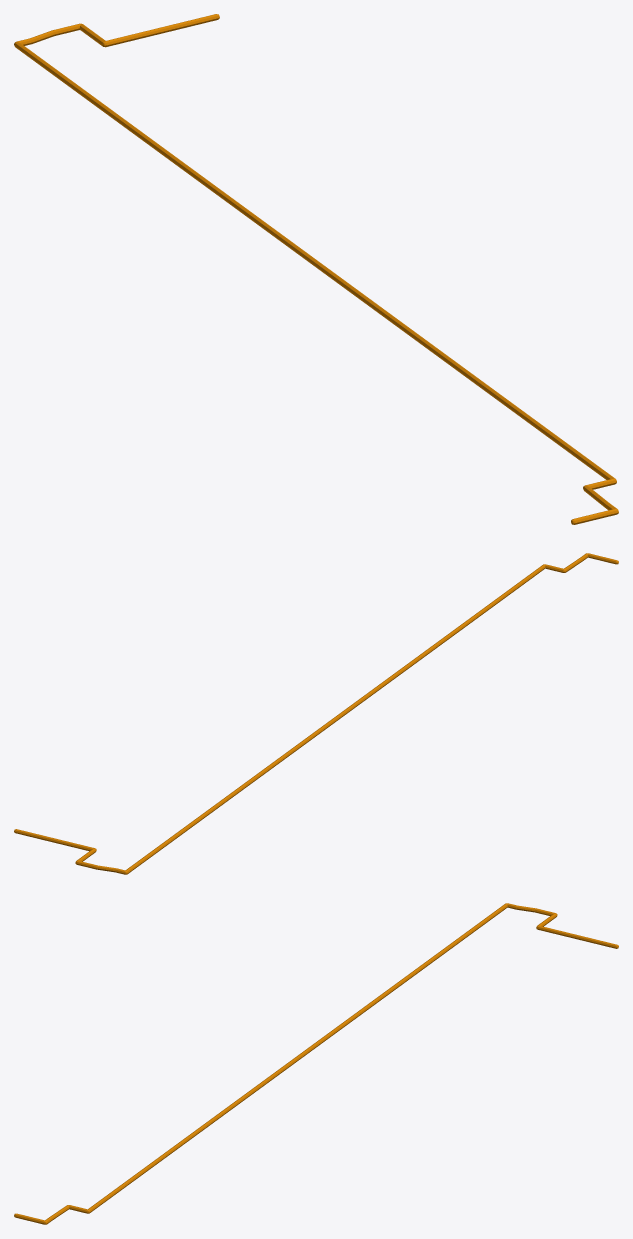
The picture shows the model from 3 angles, top to bottom: view 1: azimuth 30°, elevation 25°; view 2: azimuth 150°, elevation 25°; view 3: azimuth 330°, elevation 25°; orthographic projection. The views are drawn at different scales.
Size of the model in its own units: 913 by 20 by 3931.
